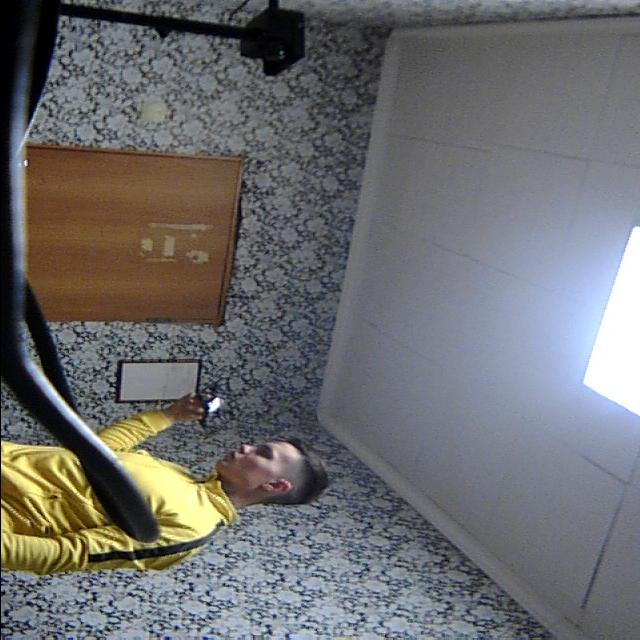drone: (185, 374, 245, 439)
